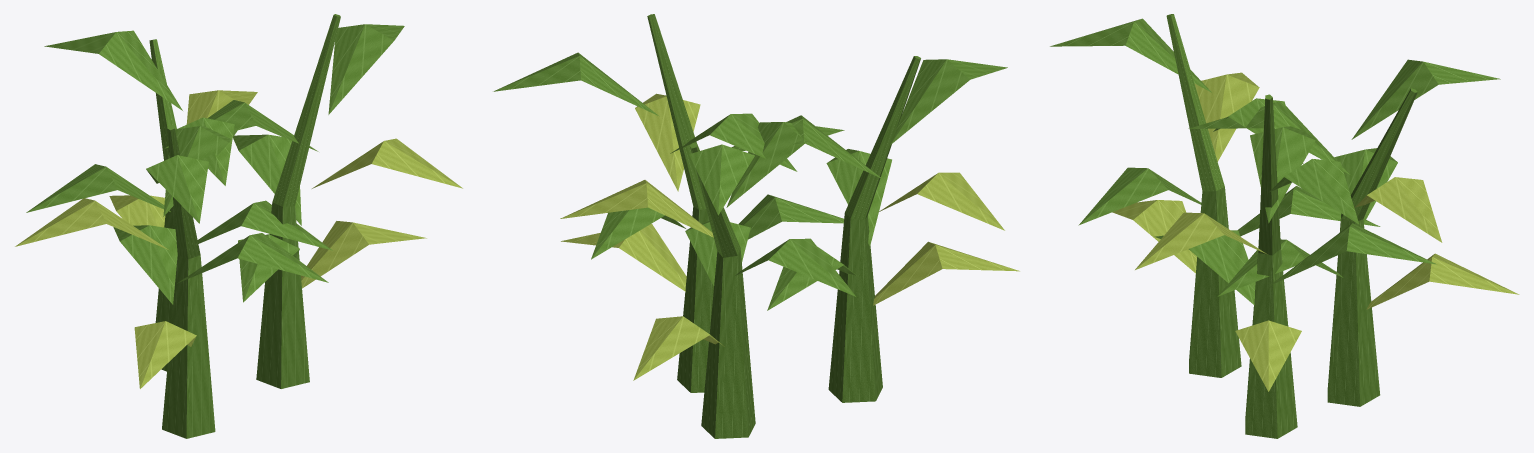
Rendered from crop-lime-young.glb.
3 renders of one model, left to right at view 1: azimuth 30°, elevation 25°; view 2: azimuth 150°, elevation 25°; view 3: azimuth 270°, elevation 25°, orthographic. The views are drawn at different scales.
Visible parts, largest first — view 1: crop-lime-young; view 2: crop-lime-young; view 3: crop-lime-young.
Boxes of the visible parts, box(x1,y1,x2,y2) form: crop-lime-young: box(15, 14, 462, 438); crop-lime-young: box(493, 14, 1019, 438); crop-lime-young: box(1050, 14, 1519, 438).
Size of the model in its own units: 0.5108 by 0.3812 by 0.4544.
Materials: 1 (1 with a texture image).
